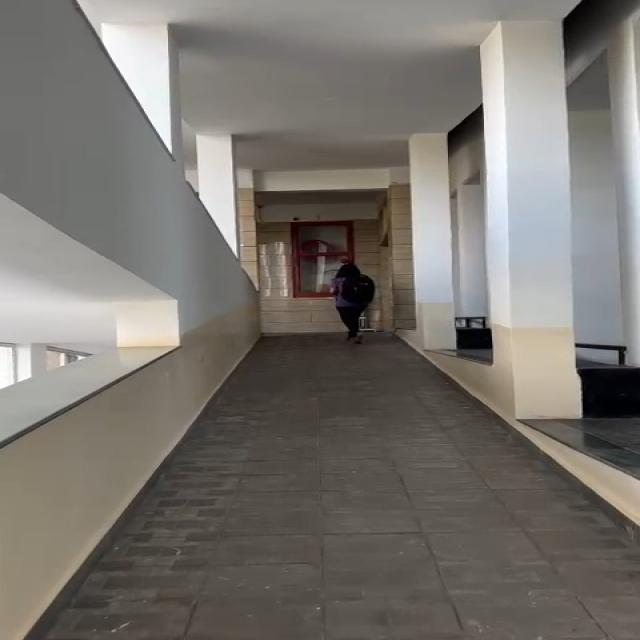floor: (240, 368, 500, 640)
moving_object: (328, 263, 388, 347)
wall: (0, 5, 291, 495), (424, 18, 640, 393)
